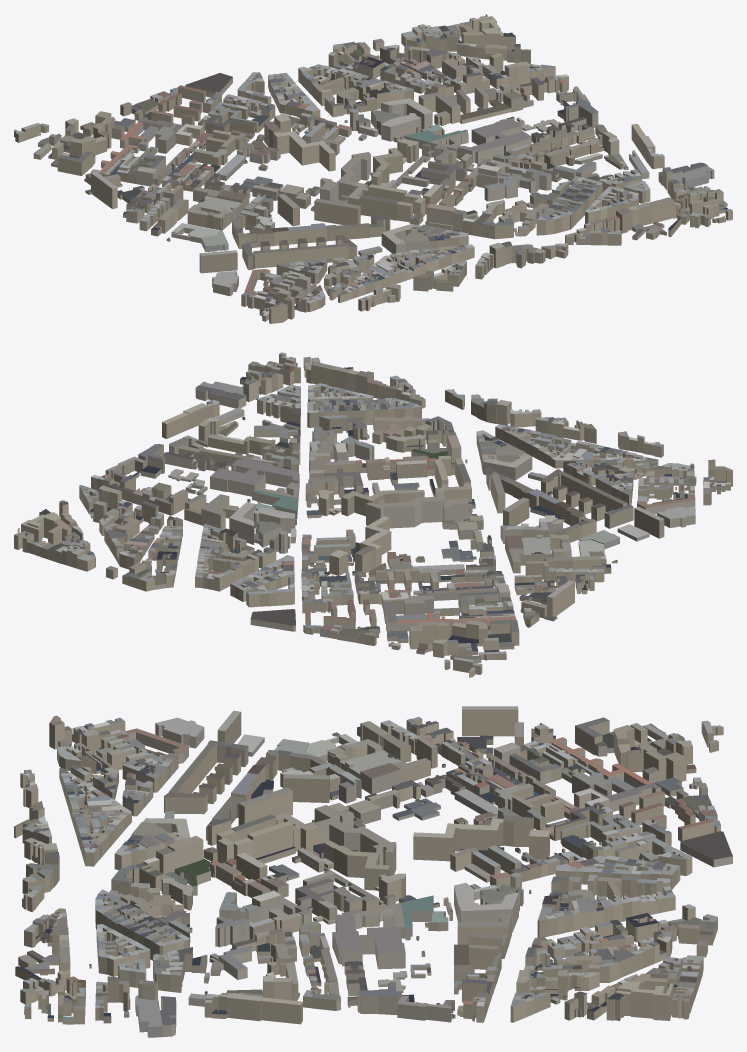
3 views of the same model, one above another, from view 1: azimuth 30°, elevation 25°; view 2: azimuth 150°, elevation 25°; view 3: azimuth 270°, elevation 25° (orthographic). The views are drawn at different scales.
Visible parts, largest first — view 1: tuile; view 2: tuile; view 3: tuile.
Part boxes in pixels (bbox=[...]): tuile: bbox=[14, 14, 732, 323]; tuile: bbox=[14, 352, 732, 677]; tuile: bbox=[14, 706, 732, 1037].
Bounding box in the file's own units: 1069 × 55.71 × 1041.
